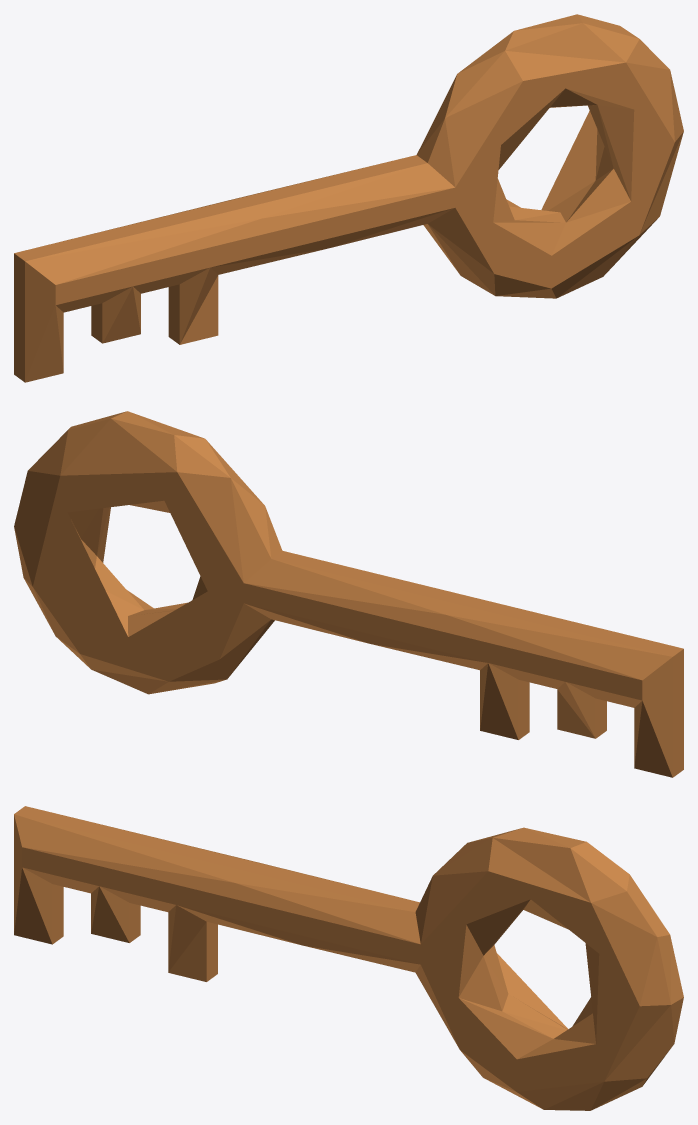
File: Key.fbx
3 renders of one model, top to bottom at view 1: azimuth 30°, elevation 25°; view 2: azimuth 150°, elevation 25°; view 3: azimuth 330°, elevation 25°, orthographic.
Parts seen in each view (by area): view 1: Key.001; view 2: Key.001; view 3: Key.001.
Part boxes in pixels (bbox=[...]): Key.001: bbox=[14, 14, 683, 382]; Key.001: bbox=[14, 411, 683, 777]; Key.001: bbox=[14, 806, 683, 1110].
Size of the model in its own units: 17.09 by 6.65 by 1.5.
